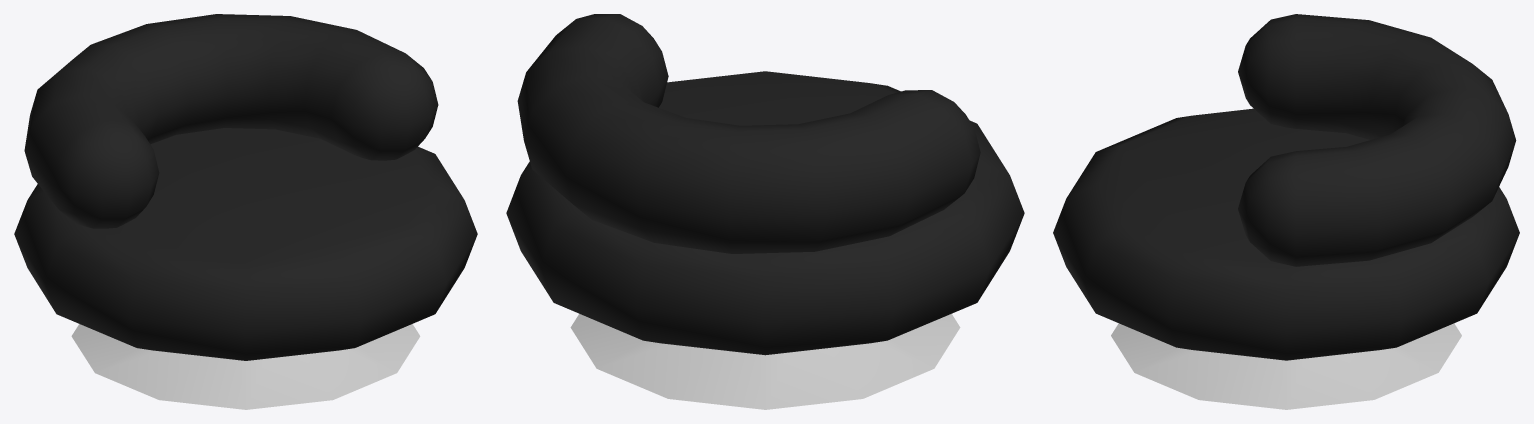
The model's file is chair_050.fbx.
3 views of the same model, side by side, from view 1: azimuth 30°, elevation 25°; view 2: azimuth 150°, elevation 25°; view 3: azimuth 270°, elevation 25° (orthographic). The views are drawn at different scales.
Parts seen in each view (by area): view 1: chair_050; view 2: chair_050; view 3: chair_050.
Part boxes in pixels (bbox=[...]): chair_050: bbox=[14, 14, 477, 409]; chair_050: bbox=[506, 14, 1024, 409]; chair_050: bbox=[1053, 14, 1519, 409].
Size of the model in its own units: 159 by 159 by 93.22.
